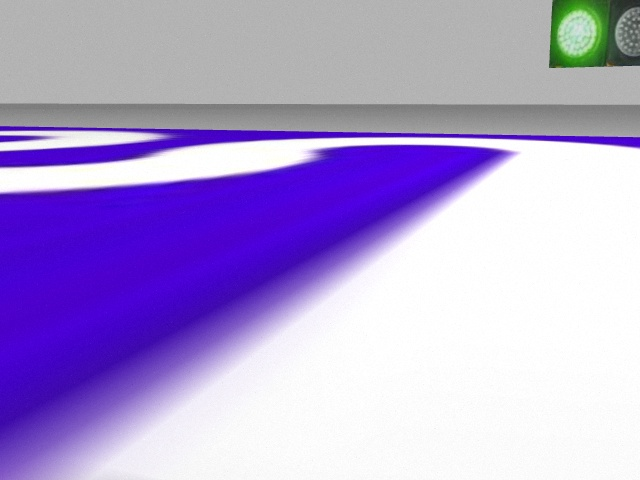green: (551, 1, 607, 68)
